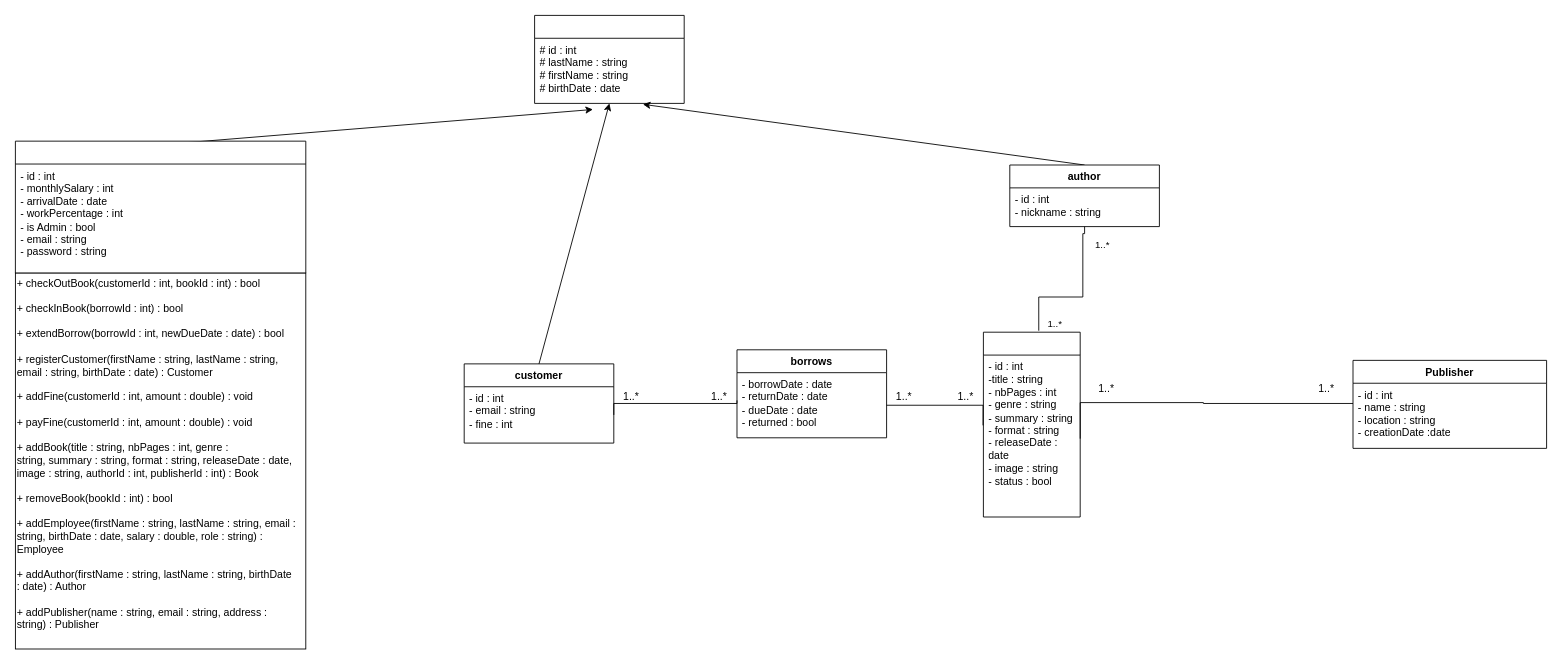
The diagram is 1562 pixels wide and 664 high, and some of its shapes have lost their labels. Each missing label, with the box of its shape:
books: (983, 331, 1080, 517)
employee: (15, 140, 306, 273)
person: (534, 15, 684, 103)
